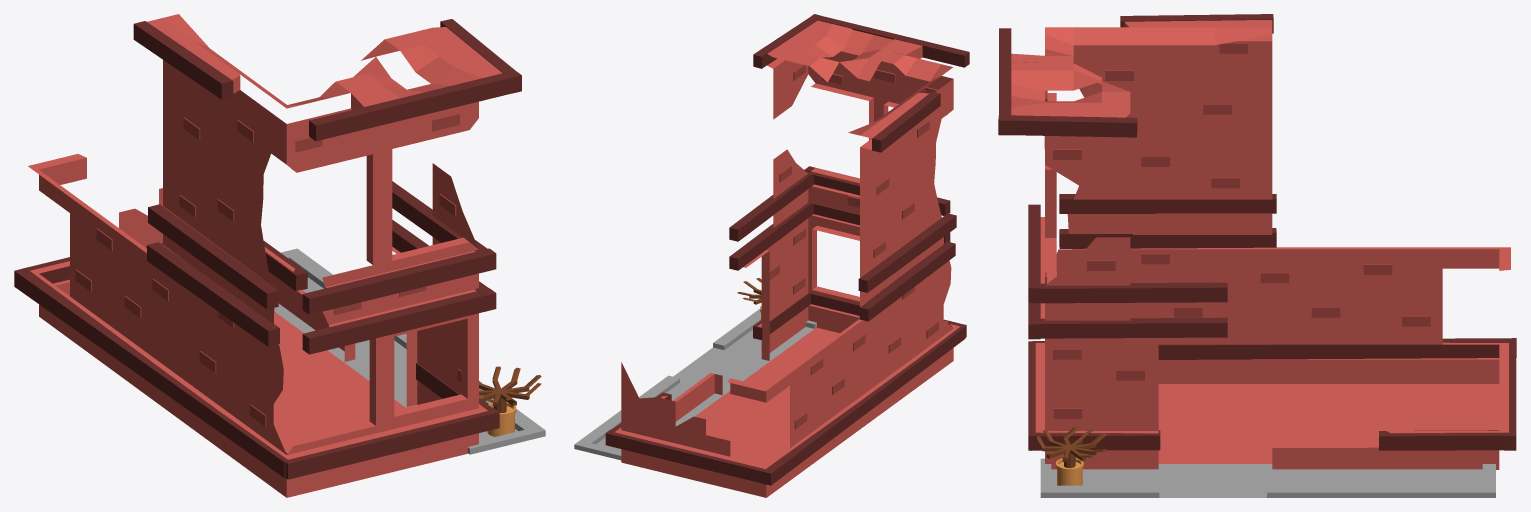
File: 90_razrushenny_dom.fbx
The picture shows the model from 3 angles, left to right: view 1: azimuth 30°, elevation 25°; view 2: azimuth 150°, elevation 25°; view 3: azimuth 270°, elevation 25°; orthographic projection. The views are drawn at different scales.
Parts seen in each view (by area): view 1: Cube.133, Cube.030, Cube.036, Cube.026, Cube.031, Cube.027, Plane, Cube.025, Cube.024, Cube.023, Cube.028, Cylinder.006 (+5 smaller); view 2: Cube.133, Plane, Cube.030, Cube.034, Cube.024, Cube.025, Cube.028, Cube.029, Cube.036, Cube.023, Cube.022, Cube.026 (+3 smaller); view 3: Cube.133, Plane, Cube.030, Cube.029, Cube.028, Cube.024, Cube.025, Cube.022, Cube.033, Cube.032, Cube.036, Cylinder.006 (+5 smaller).
Boxes of the visible parts, <box> form: Cube.133: <box>28,14,502,497</box>; Cube.030: <box>14,269,287,478</box>; Cube.036: <box>309,71,521,141</box>; Cube.026: <box>302,248,496,314</box>; Cube.031: <box>281,407,499,479</box>; Cube.027: <box>302,288,496,354</box>; Plane: <box>274,248,545,454</box>; Cube.025: <box>147,242,279,346</box>; Cube.024: <box>148,204,278,309</box>; Cube.023: <box>133,21,233,99</box>; Cube.028: <box>392,181,487,251</box>; Cylinder.006: <box>479,366,541,412</box>; Cube.133: <box>615,20,960,497</box>; Plane: <box>574,309,816,460</box>; Cube.030: <box>762,326,965,485</box>; Cube.034: <box>605,429,770,483</box>; Cube.024: <box>858,213,956,292</box>; Cube.025: <box>859,241,955,321</box>; Cube.028: <box>729,171,813,241</box>; Cube.029: <box>729,202,813,270</box>; Cube.036: <box>812,14,969,67</box>; Cube.023: <box>872,92,940,152</box>; Cube.022: <box>753,14,818,68</box>; Cube.026: <box>804,166,950,215</box>; Cube.133: <box>1011,20,1510,469</box>; Plane: <box>1040,458,1495,497</box>; Cube.030: <box>1032,338,1516,359</box>; Cube.029: <box>1031,317,1227,338</box>; Cube.028: <box>1032,282,1227,303</box>; Cube.024: <box>1059,194,1276,213</box>; Cube.025: <box>1059,228,1276,248</box>; Cube.022: <box>998,115,1137,137</box>; Cube.033: <box>1379,430,1503,450</box>; Cube.032: <box>1031,430,1160,450</box>; Cube.036: <box>999,28,1011,135</box>; Cylinder.006: <box>1036,427,1106,467</box>.
Size of the model in its own units: 306 by 388 by 509.
